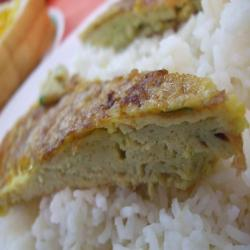omelette: (4, 65, 248, 210)
rice: (47, 190, 245, 250)
